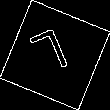L_SE: (31, 26, 79, 84)
